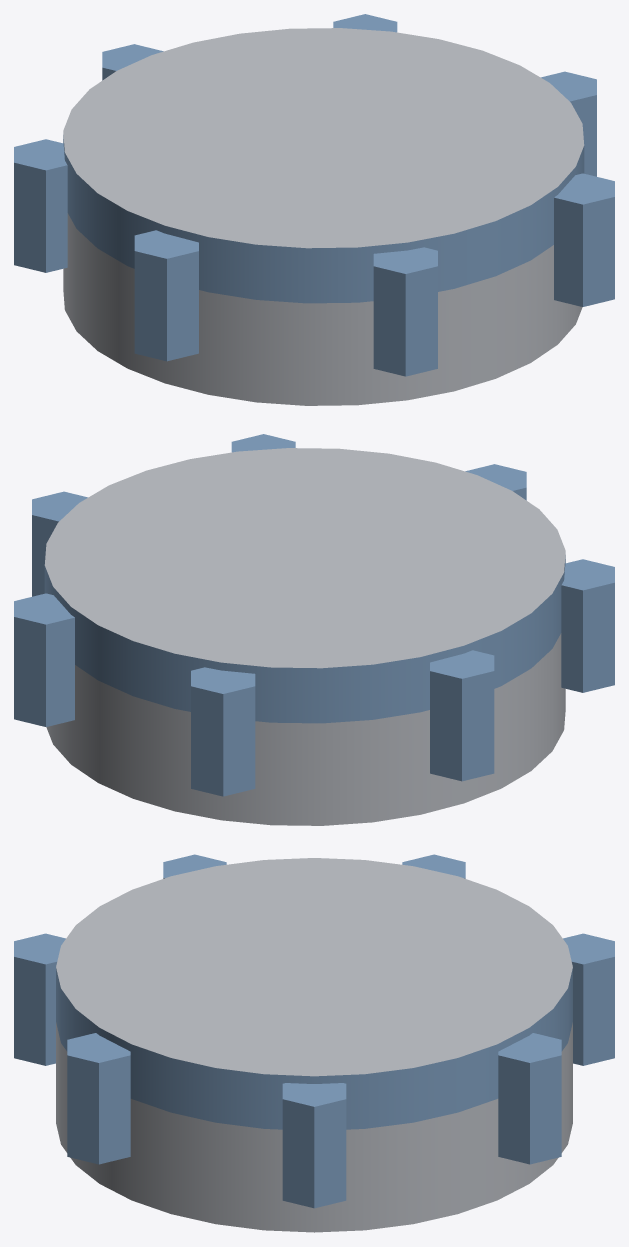
3 renders of one model, top to bottom at view 1: azimuth 30°, elevation 25°; view 2: azimuth 150°, elevation 25°; view 3: azimuth 270°, elevation 25°, orthographic.
Visible parts, largest first — view 1: ratchet_7-40; view 2: ratchet_7-40; view 3: ratchet_7-40.
Part boxes in pixels (x1=…): ratchet_7-40: x1=14, y1=14, x2=614, y2=405; ratchet_7-40: x1=14, y1=434, x2=614, y2=825; ratchet_7-40: x1=14, y1=854, x2=614, y2=1232.
Bounding box in the file's own units: 13.87 × 4 × 13.95.
